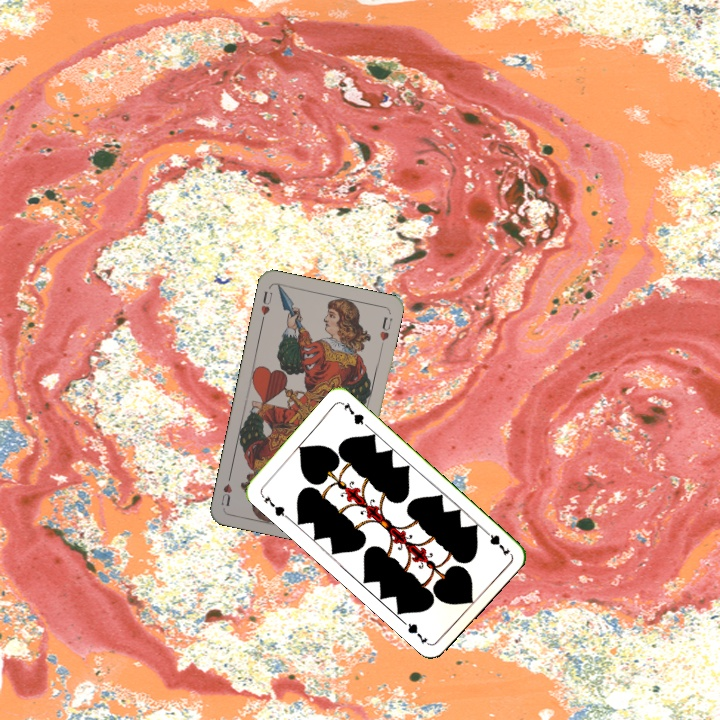G7: (479, 525, 513, 559), (260, 491, 291, 521)
HU: (257, 287, 275, 324)
